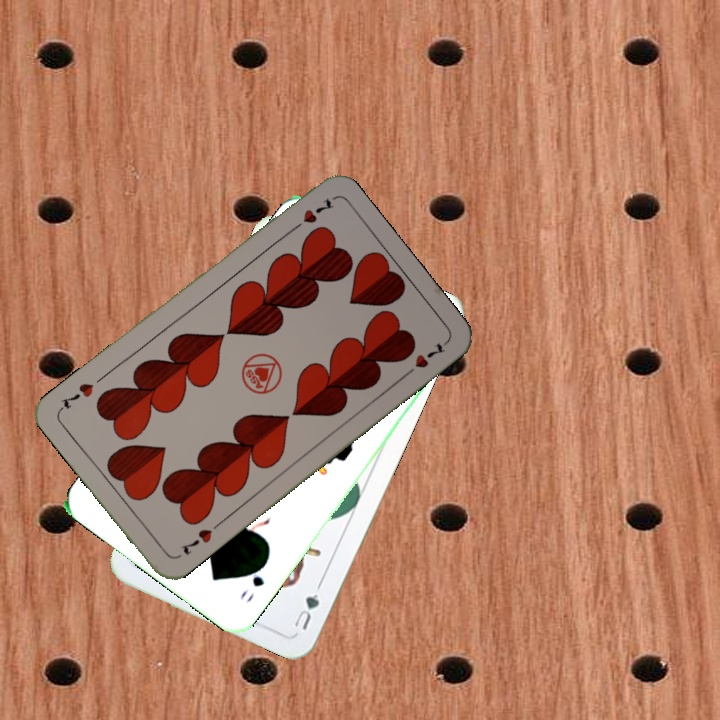GO: (235, 557, 270, 605)
GU: (288, 589, 322, 633)
H7: (286, 194, 337, 236), (176, 524, 215, 558)
